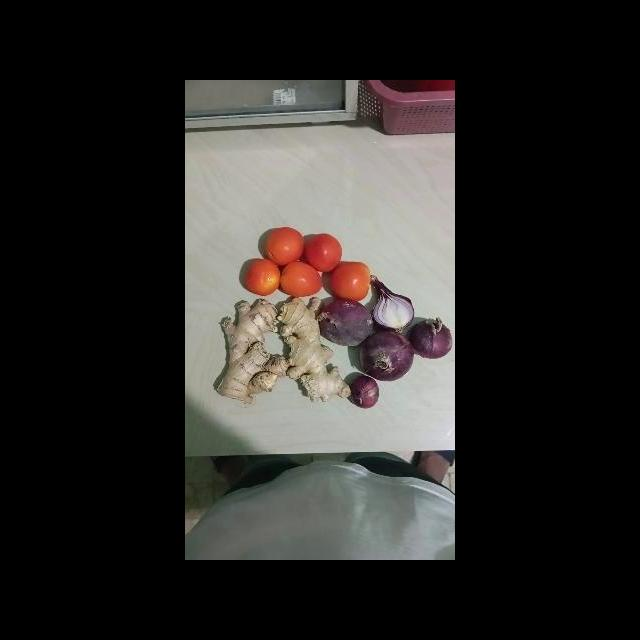ginger: (206, 295, 289, 406), (275, 292, 353, 407)
onion: (355, 325, 415, 384), (366, 268, 417, 334), (315, 297, 373, 351), (408, 314, 455, 363), (344, 371, 381, 411)
